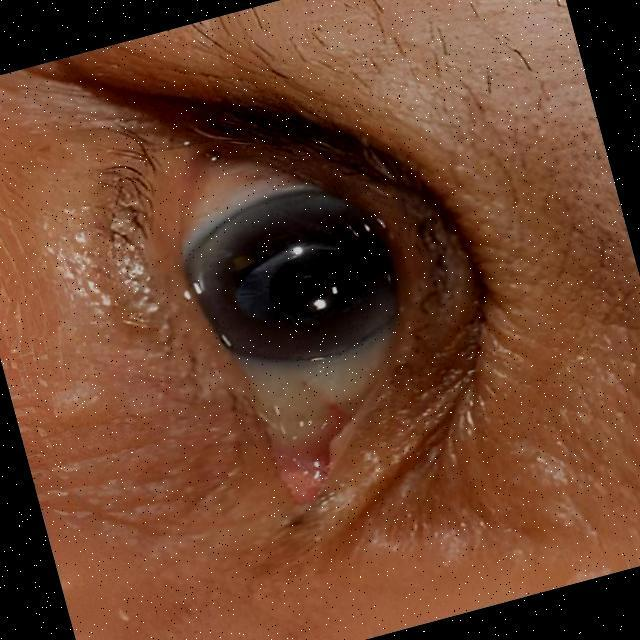Cataract: (164, 156, 424, 392)
